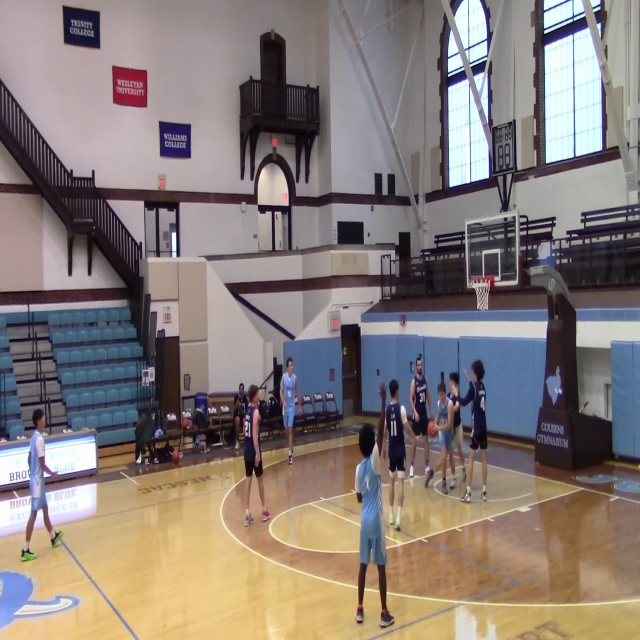Basketball: (427, 421, 437, 437), (171, 450, 180, 463), (181, 417, 190, 429)
